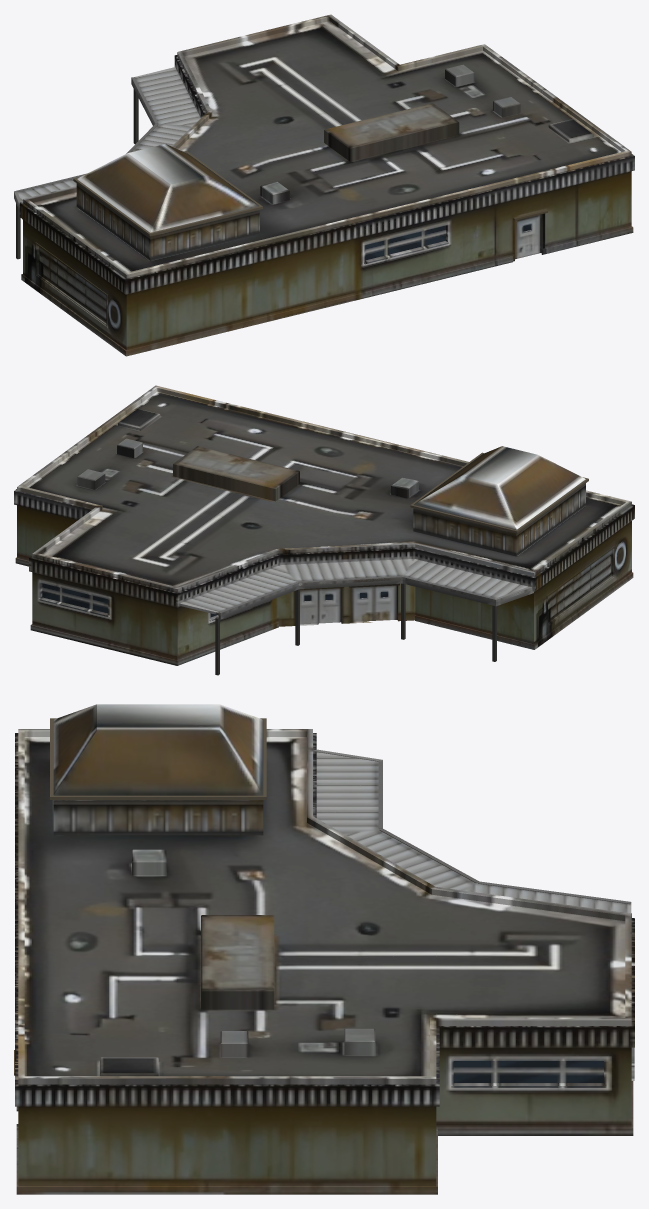
The model's file is factorysm_cad.glb.
The picture shows the model from 3 angles, top to bottom: view 1: azimuth 30°, elevation 25°; view 2: azimuth 150°, elevation 25°; view 3: azimuth 270°, elevation 25°; orthographic projection. The views are drawn at different scales.
Visible parts, largest first — view 1: SmFactory; view 2: SmFactory; view 3: SmFactory.
Boxes of the visible parts, box(x1,y1,x2,y2) form: SmFactory: box(14, 14, 634, 356); SmFactory: box(14, 385, 634, 675); SmFactory: box(14, 704, 634, 1194).
Bounding box in the file's own units: 29.39 × 7.35 × 21.84.
1 material, 1 textured.
